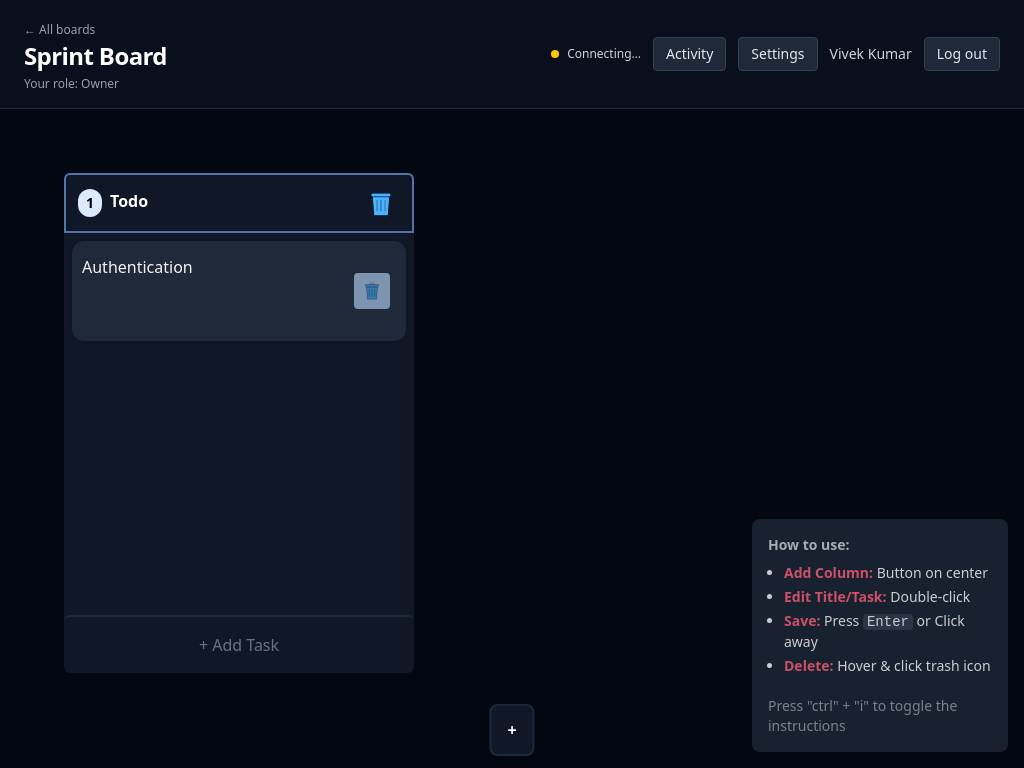
Test: board activity drawer › pages with Load more and hides the button after the last page
The image size is (1024, 768).
Expected: the text "Authentication" is shown, 82,256 -> 193,278
Click the button "Activity".
click(690, 54)  # box 653,37 -> 726,71
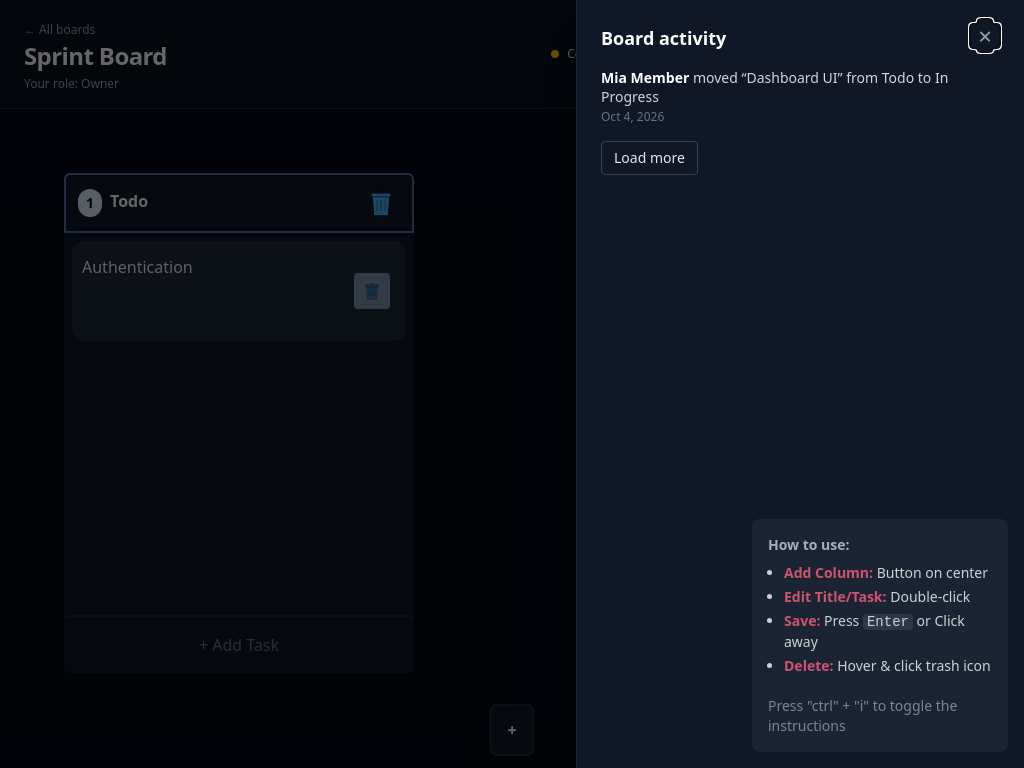
Now the list item "moved “Dashboard UI” from Todo to In Progress" is shown, box 601,68 -> 948,106
Click the button "Load more".
click(649, 158)  # box 601,140 -> 698,174
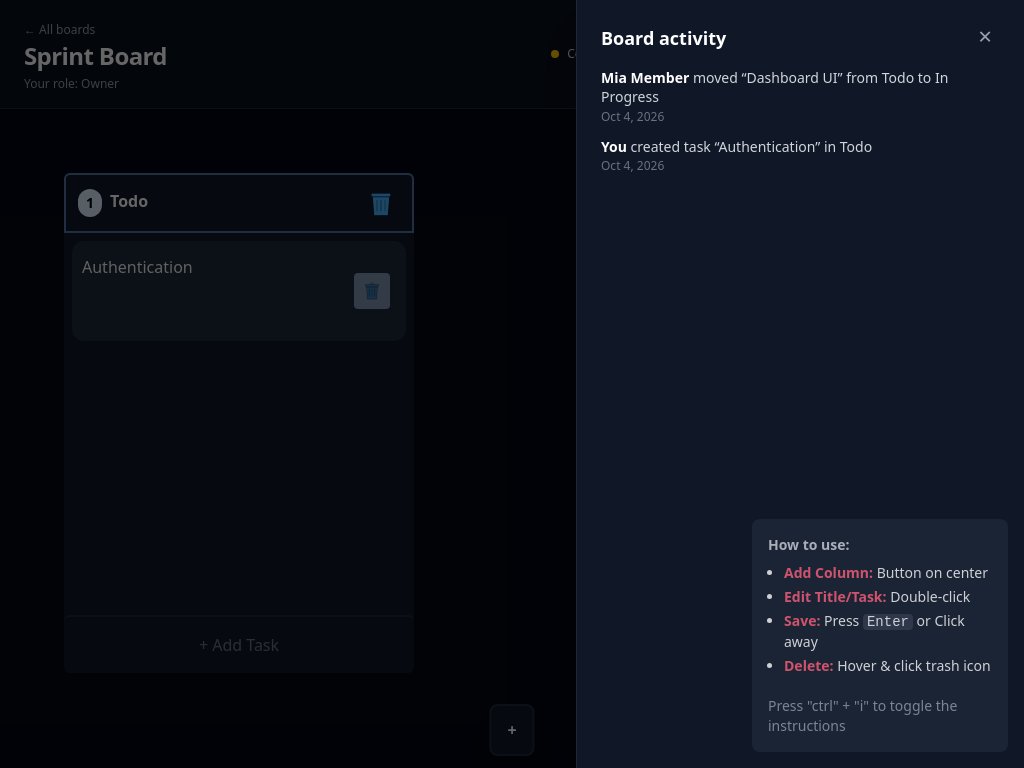
Now the list item "created task “Authentication” in Todo" is shown, box 630,136 -> 872,156
Now the button "Load more" is gone
